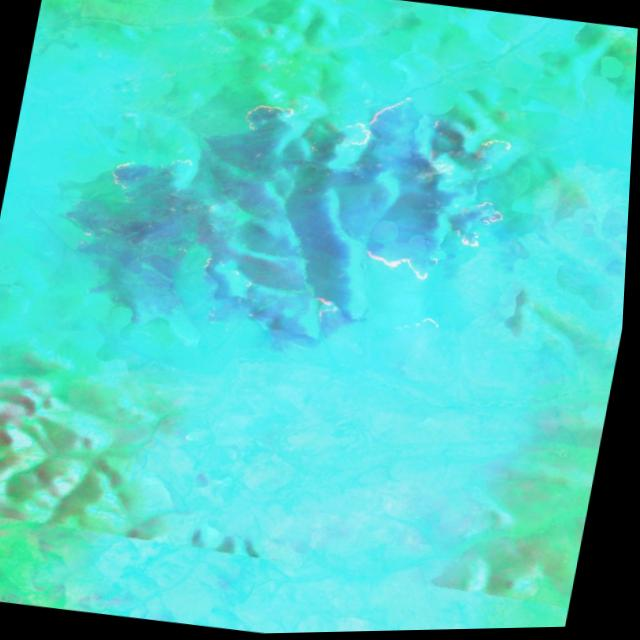fire: (315, 80, 529, 295), (87, 144, 197, 213), (308, 295, 447, 343), (235, 94, 308, 144)
